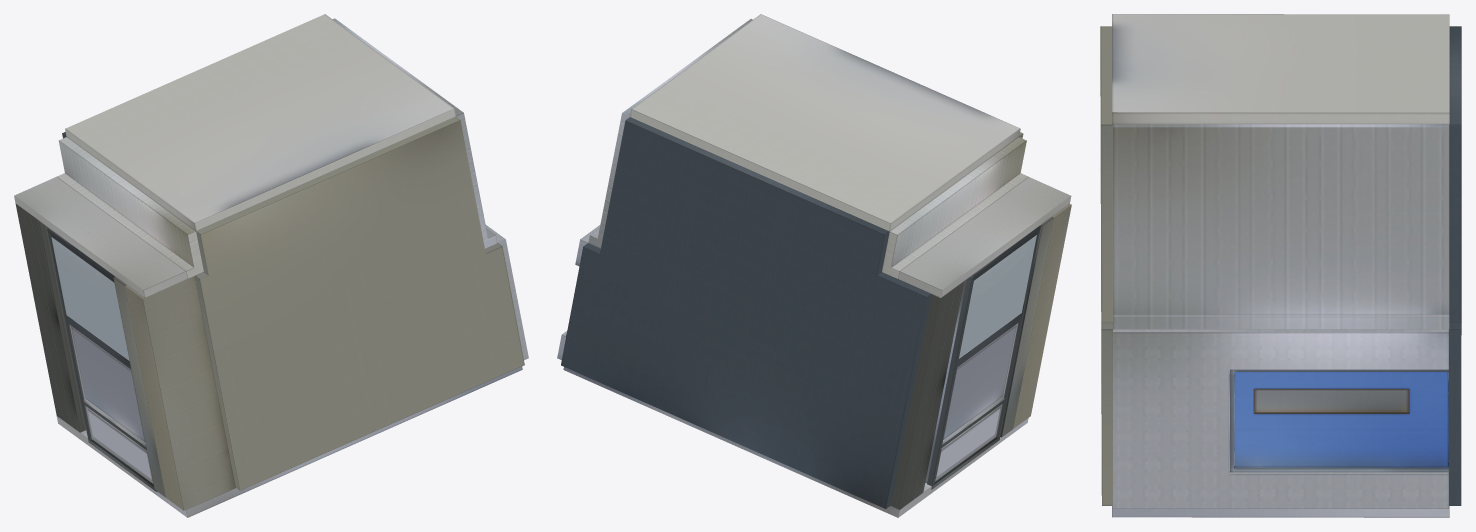
The picture shows the model from 3 angles, left to right: view 1: azimuth 30°, elevation 25°; view 2: azimuth 150°, elevation 25°; view 3: azimuth 270°, elevation 25°; orthographic projection. The views are drawn at different scales.
Visible parts, largest first — view 1: static_ceiling, static_structure, static_fixed, window_inst44, window_inst43; view 2: static_structure, static_fixed, static_ceiling, window_inst44, window_inst43; view 3: static_structure, door_inst12, static_ceiling, static_fixed.
Boxes of the visible parts, x1,y1,x2,y2 form: static_ceiling: [113, 117, 524, 510]; static_structure: [14, 14, 528, 517]; static_fixed: [47, 228, 157, 491]; window_inst44: [70, 325, 145, 444]; window_inst43: [86, 406, 153, 483]; static_structure: [557, 14, 1071, 517]; static_fixed: [566, 226, 1040, 489]; static_ceiling: [1000, 132, 1071, 437]; window_inst44: [942, 323, 1018, 442]; window_inst43: [935, 404, 1002, 481]; static_structure: [1112, 14, 1461, 517]; door_inst12: [1234, 372, 1448, 467]; static_ceiling: [1100, 26, 1112, 505]; static_fixed: [1230, 367, 1449, 472].
Size of the model in its own units: 5.66 by 4.83 by 3.52.
2 materials, 2 textured.
